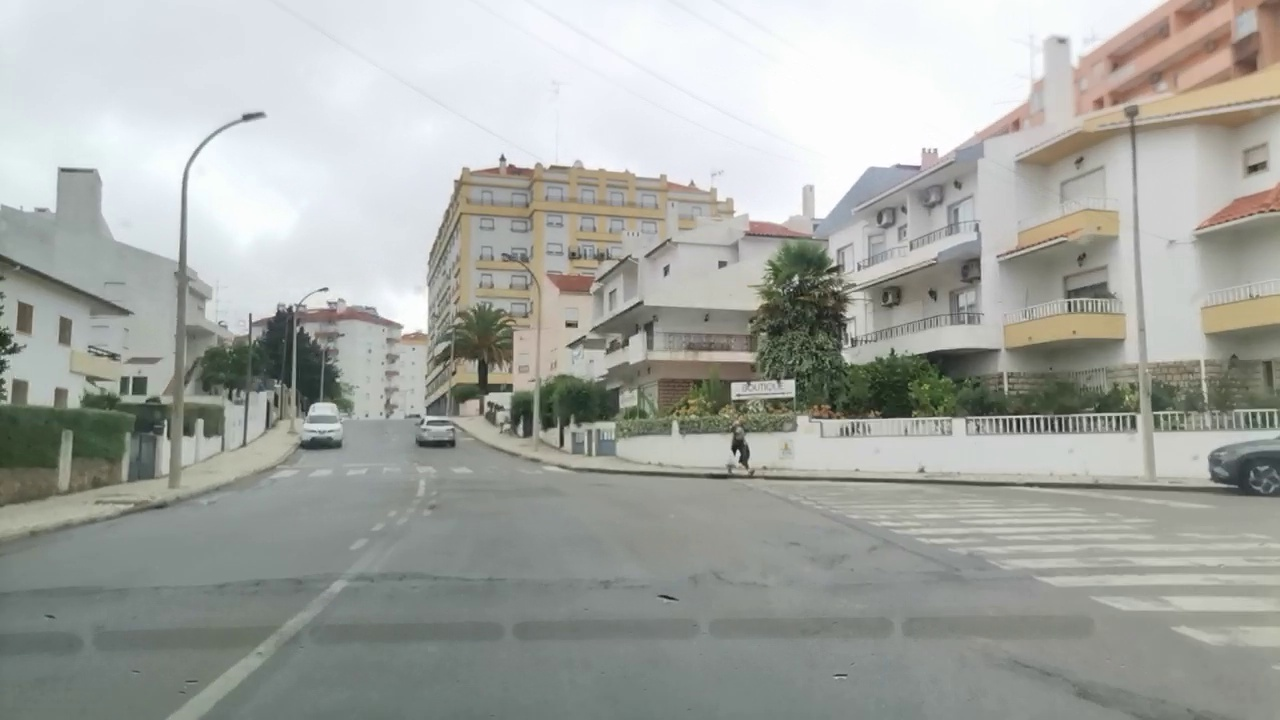Stairs: (743, 474, 1280, 674), (272, 463, 560, 479)
